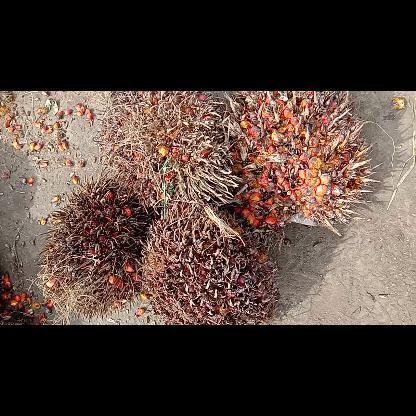Terlalu masak: (232, 91, 382, 235), (34, 168, 158, 324), (94, 90, 242, 206), (139, 202, 279, 324)
